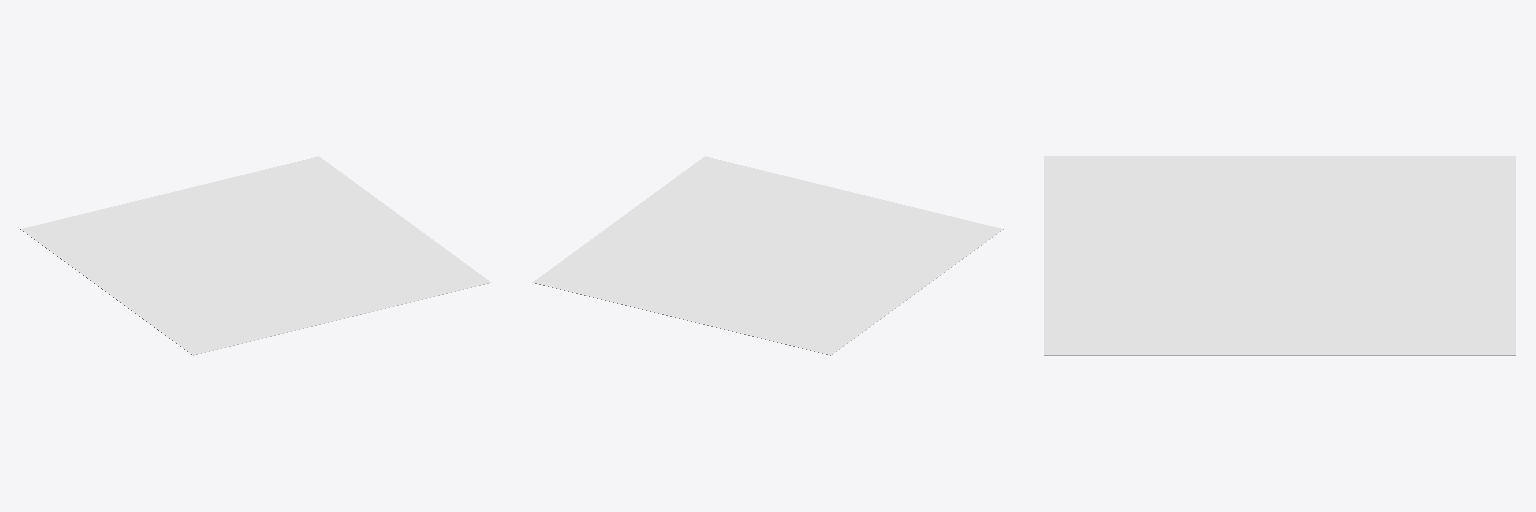
URDF robot description (obstacles_2d_plane):
<?xml version="1.0"?>
<robot name="obstacles_2d_plane" xmlns:xacro="http://ros.org/wiki/xacro">

    <!-- Plane's link -->
    <link name="plane_link">
        <visual>
            <origin xyz="0 0 0" rpy="0 0 0"/>
            <geometry>
                <mesh filename="package://saved_workspace_obstacles/meshes/obstacles_2d_plane.stl" scale="0.010 0.010 0.001"/>
            </geometry>
            <material name="white">
                <color rgba="1.0 1.0 1.0 1.0"/>
            </material>
        </visual>
    </link>

</robot>

--- What the picture shows (computed from the rendered views, not written in the file) ---
The picture shows the robot from 3 angles, left to right: view 1: azimuth 30°, elevation 25°; view 2: azimuth 150°, elevation 25°; view 3: azimuth 270°, elevation 25°; orthographic projection.
Model obstacles_2d_plane with 1 links and 0 joints (none), rooted at plane_link, posed every joint at zero.
Visible links, largest first — view 1: plane_link; view 2: plane_link; view 3: plane_link.
Boxes of the visible links, x1,y1,x2,y2 form: plane_link: (20, 156, 491, 355); plane_link: (532, 156, 1003, 355); plane_link: (1044, 156, 1515, 355).
Bounding box of the posed robot: 10 × 10 × 0.01 m (x, y, z).
Meshes: 1 distinct files referenced, 1 mesh visuals loaded (1 binary STL).
